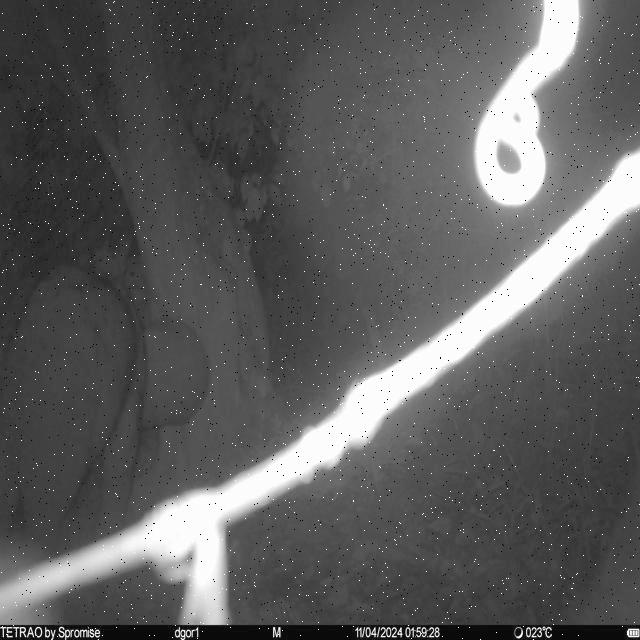calf: (2, 262, 212, 570)
ear: (136, 315, 212, 431)
